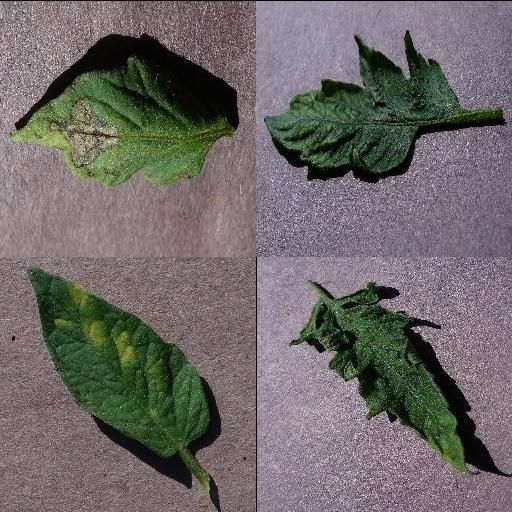Early Blight: (8, 52, 234, 183)
Leaf Mold: (25, 266, 213, 454)
Mosaic Virus: (288, 279, 478, 477), (262, 28, 466, 178)
